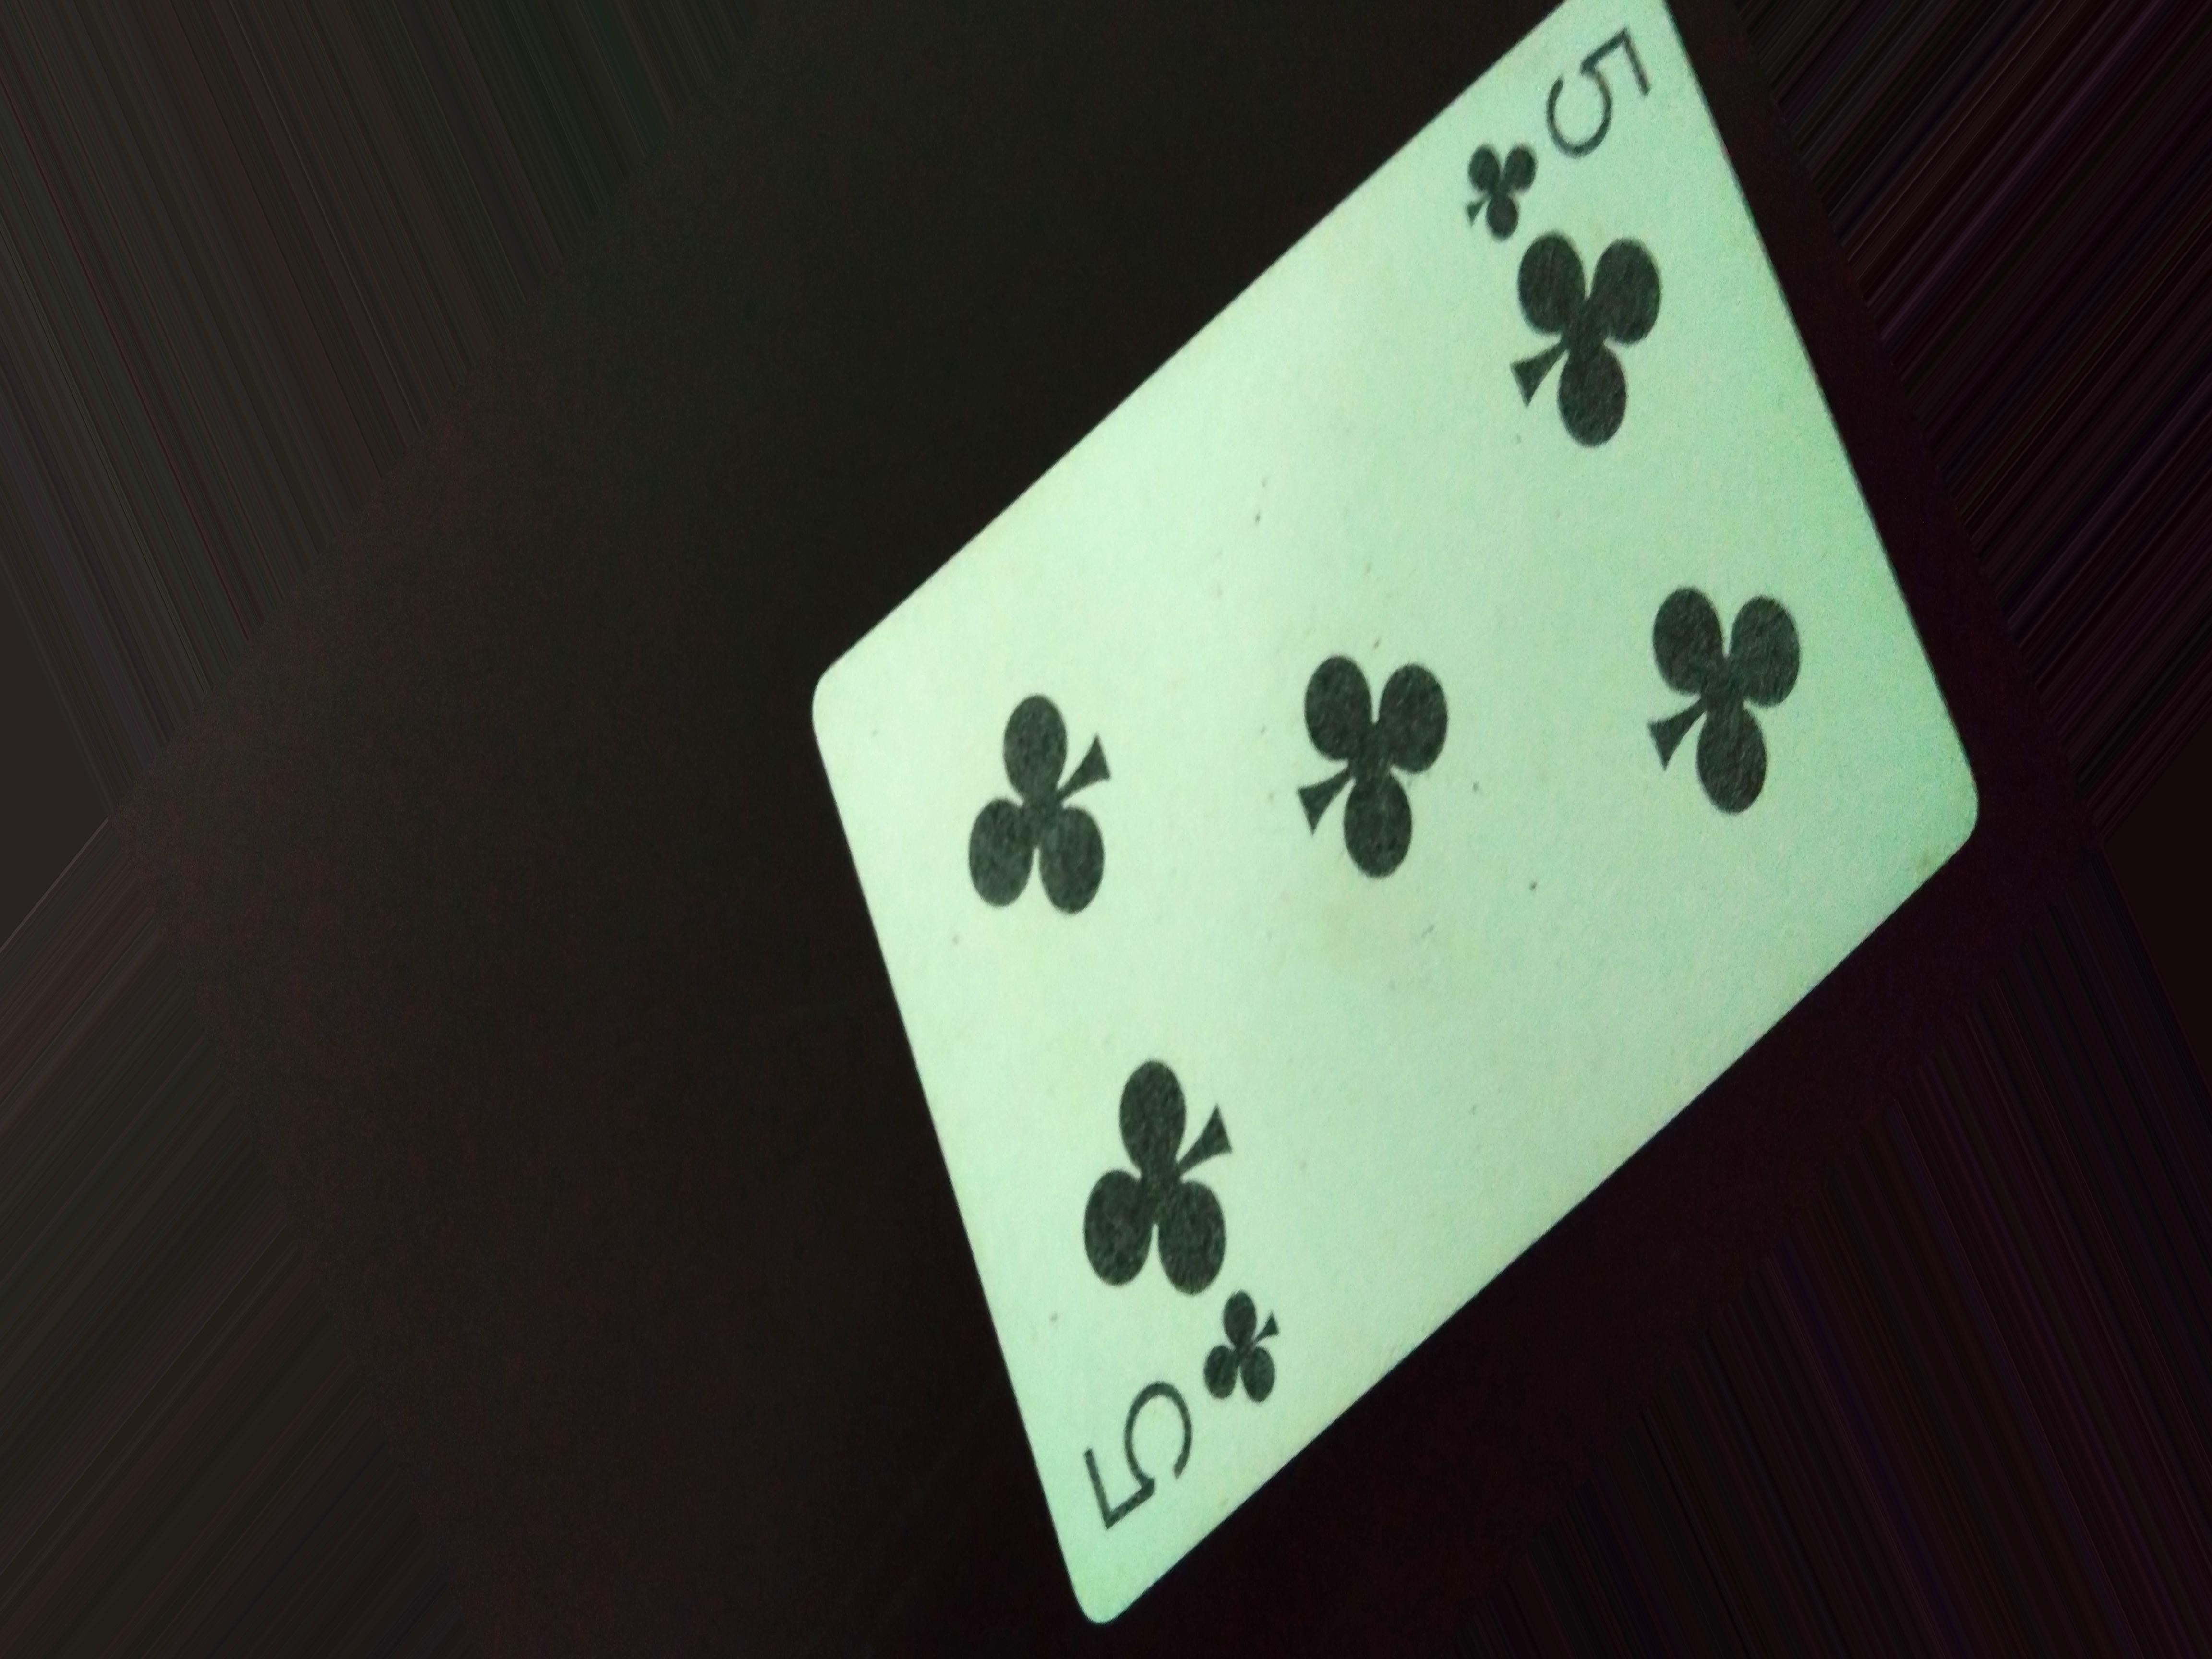5C: (1449, 16, 1658, 249)
